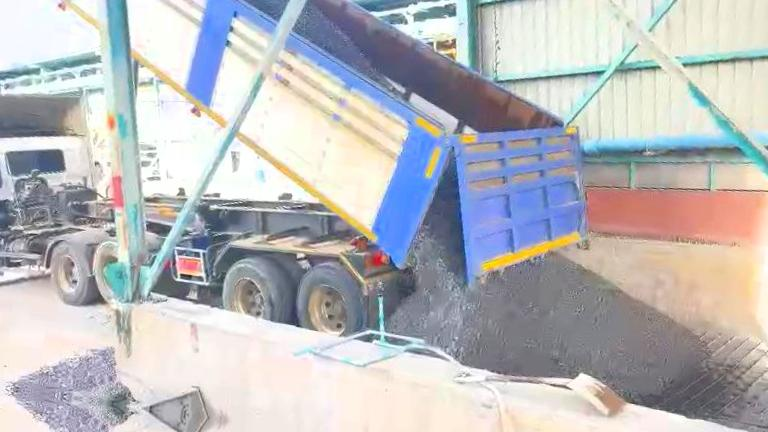gravel: (388, 167, 709, 405), (295, 1, 393, 90), (6, 349, 134, 404), (170, 0, 292, 19)
